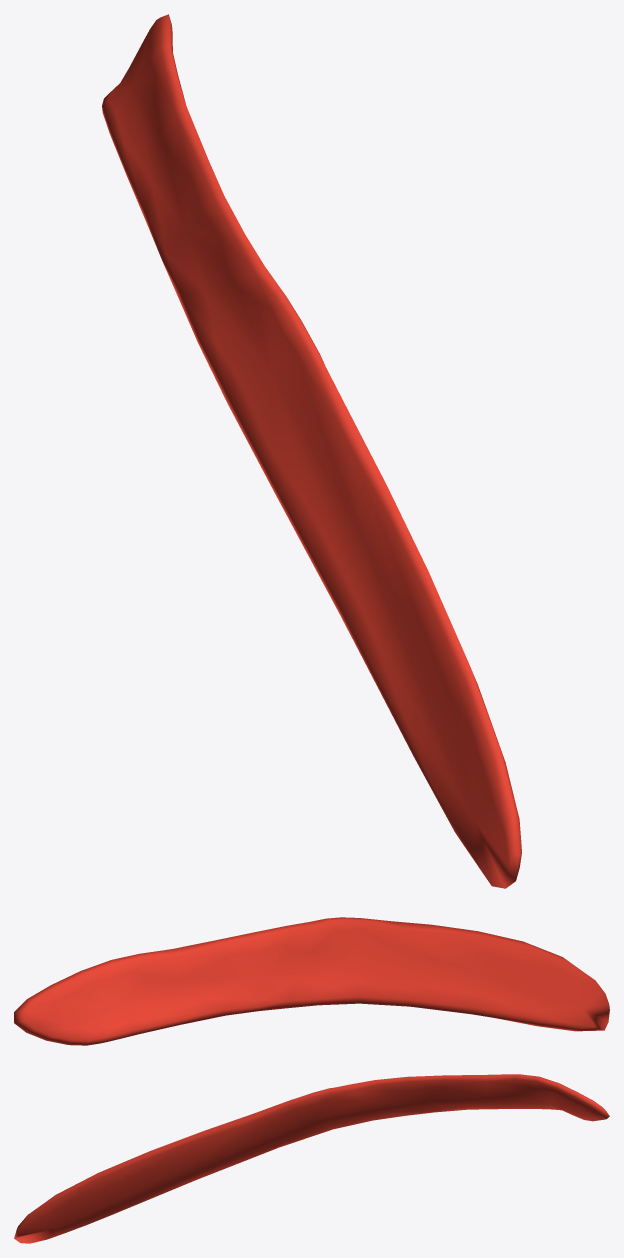
The model's file is Plantar_interossei_3rd_metatarsal_right.glb.
3 views of the same model, one above another, from view 1: azimuth 30°, elevation 25°; view 2: azimuth 150°, elevation 25°; view 3: azimuth 270°, elevation 25° (orthographic). The views are drawn at different scales.
Parts seen in each view (by area): view 1: Plantar_interossei_muscles_on_3rd_metatarsal_bone.r_Generate; view 2: Plantar_interossei_muscles_on_3rd_metatarsal_bone.r_Generate; view 3: Plantar_interossei_muscles_on_3rd_metatarsal_bone.r_Generate.
Part boxes in pixels (x1,y1,x2,y2): Plantar_interossei_muscles_on_3rd_metatarsal_bone.r_Generate: (102,14,521,888); Plantar_interossei_muscles_on_3rd_metatarsal_bone.r_Generate: (14,917,609,1045); Plantar_interossei_muscles_on_3rd_metatarsal_bone.r_Generate: (14,1074,609,1243).
Bounding box in the file's own units: 0.00708 × 0.0114 × 0.029.
